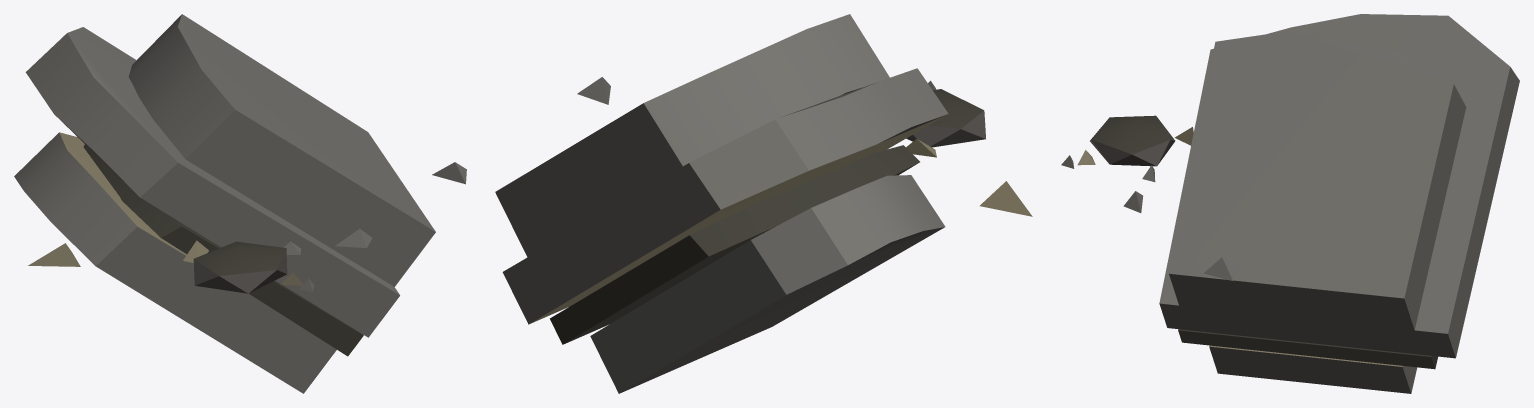
Rendered from MiningOutcropBDug.fbx.
The picture shows the model from 3 angles, left to right: view 1: azimuth 30°, elevation 25°; view 2: azimuth 150°, elevation 25°; view 3: azimuth 270°, elevation 25°; orthographic projection. The views are drawn at different scales.
Parts seen in each view (by area): view 1: MiningOutcropBDug; view 2: MiningOutcropBDug; view 3: MiningOutcropBDug.
Part boxes in pixels (<box>): MiningOutcropBDug: <box>14,14,466,393</box>; MiningOutcropBDug: <box>495,14,1032,393</box>; MiningOutcropBDug: <box>1061,14,1519,393</box>.
Bounding box in the file's own units: 1.84 × 1.29 × 1.73.
